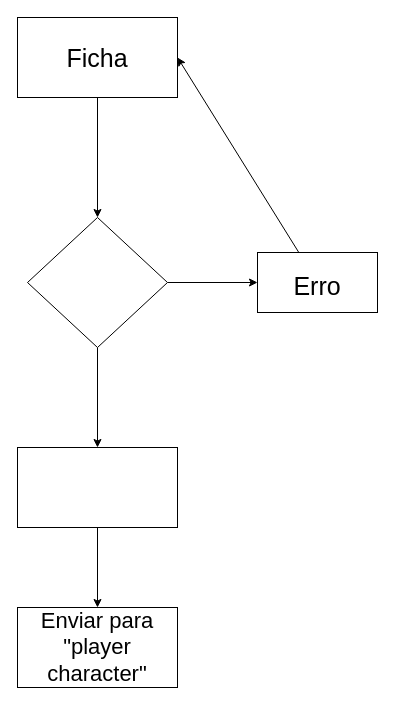
Image size: 395x705. Some labels were removed from this diagram. The box of each missing label's shape, as (x1, y1, x2, y2) in pixels:
Salvar: (26, 216, 168, 348)
Salvar o context num log: (16, 446, 178, 528)
